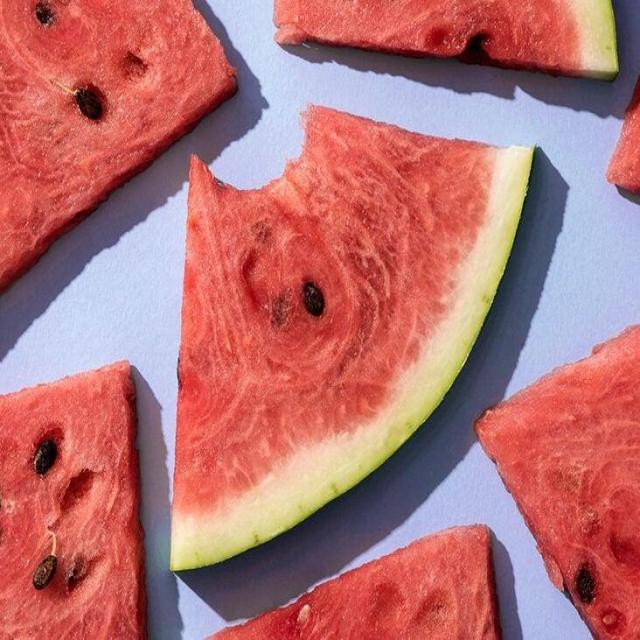watermelon: (153, 100, 544, 591), (0, 0, 247, 314), (488, 306, 640, 640), (0, 341, 157, 640), (185, 507, 504, 640), (266, 0, 619, 84)
